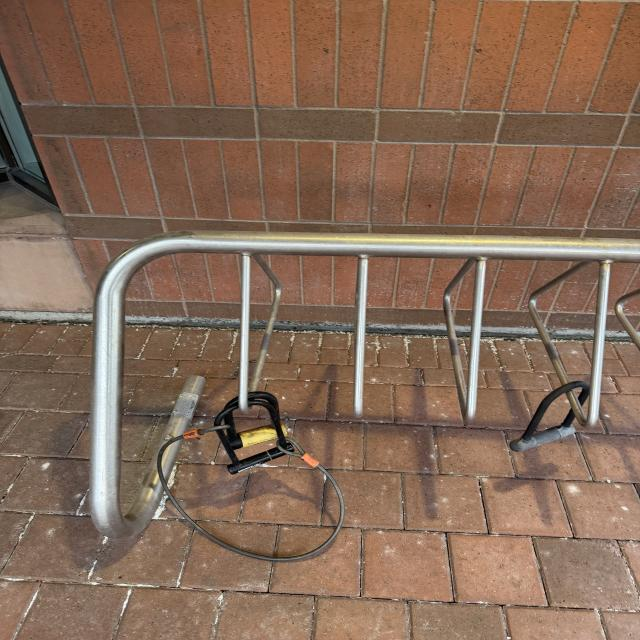Bicycle Rack: (80, 230, 640, 548)
